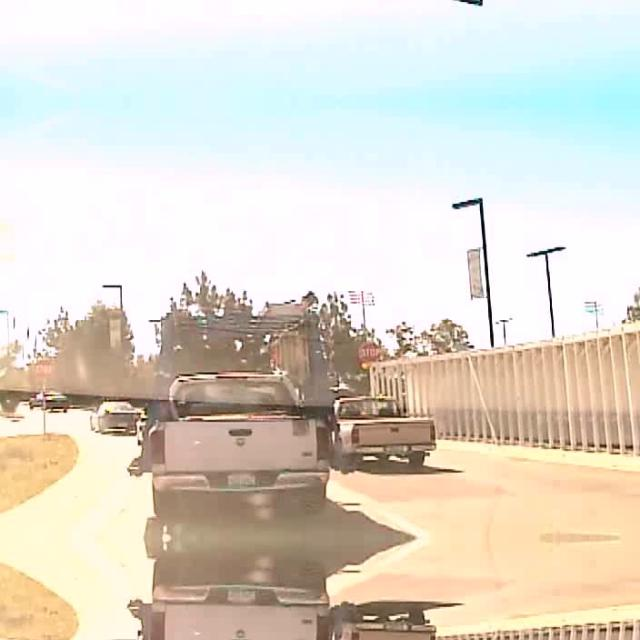stop: (358, 339, 380, 363), (33, 358, 53, 378)
